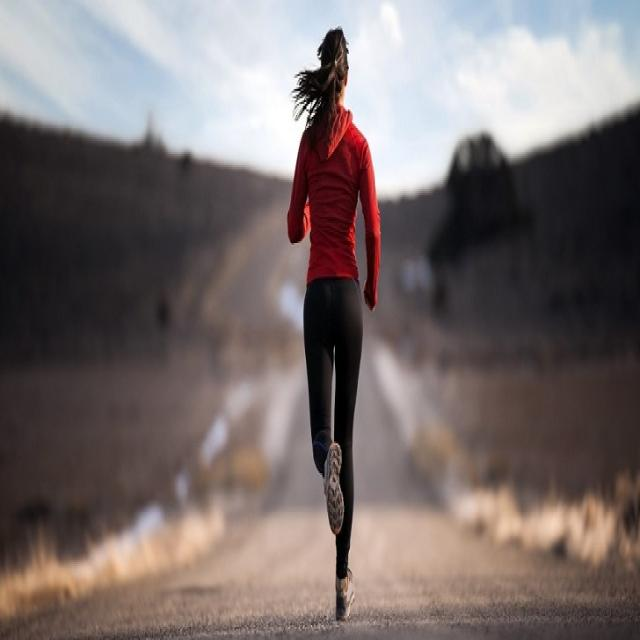Person: (288, 27, 381, 621)
